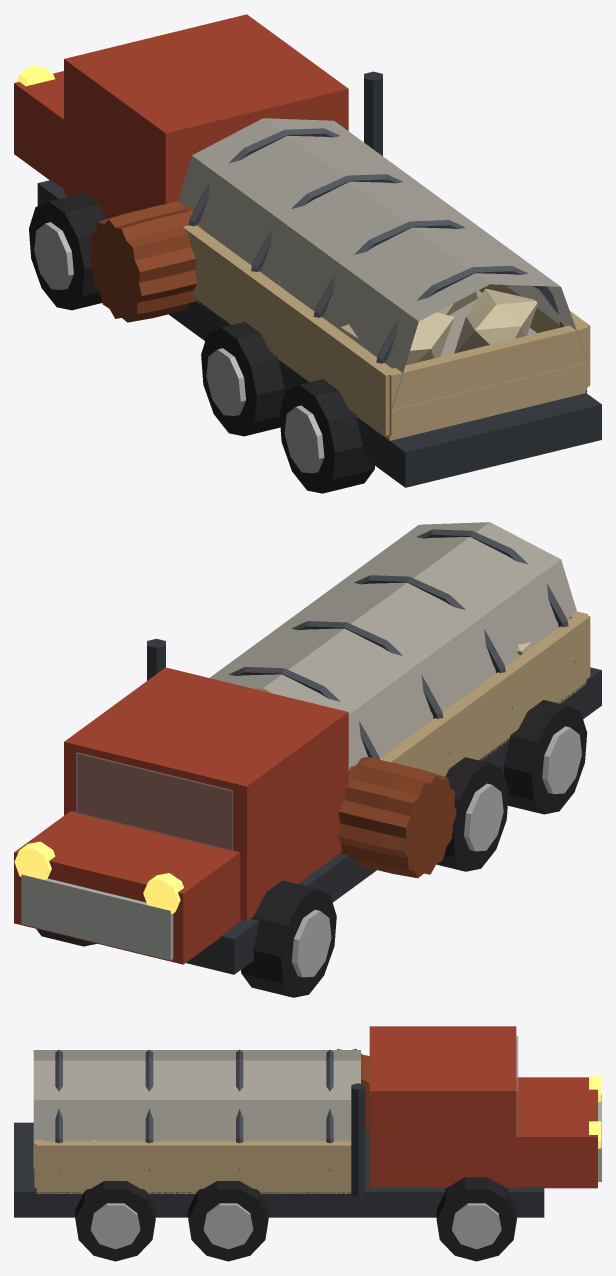
The model's file is truck_combine.glb.
3 renders of one model, top to bottom at view 1: azimuth 30°, elevation 25°; view 2: azimuth 150°, elevation 25°; view 3: azimuth 270°, elevation 25°, orthographic. The views are drawn at different scales.
Visible parts, largest first — view 1: truck_combine_body; view 2: truck_combine_body; view 3: truck_combine_body.
Boxes of the visible parts, bbox=[...] form: truck_combine_body: bbox=[14, 14, 601, 493]; truck_combine_body: bbox=[14, 522, 601, 997]; truck_combine_body: bbox=[14, 1026, 601, 1261].
Bounding box in the file's own units: 4.27 × 3.3 × 10.42.
